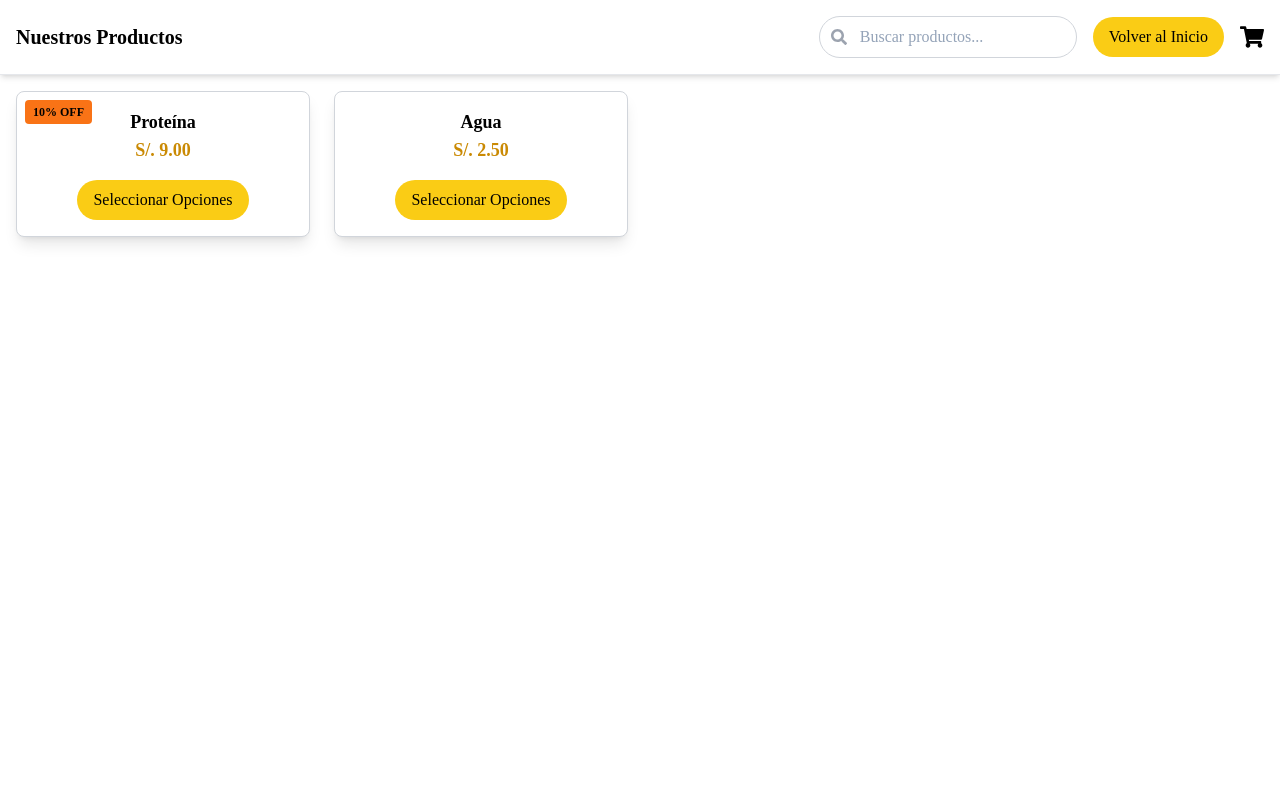
selección de productos › reinicia la cantidad al cancelar y elegir otro producto
Click the button "Seleccionar Opciones" below "9.00" at (163, 200), box [78,180,249,220]
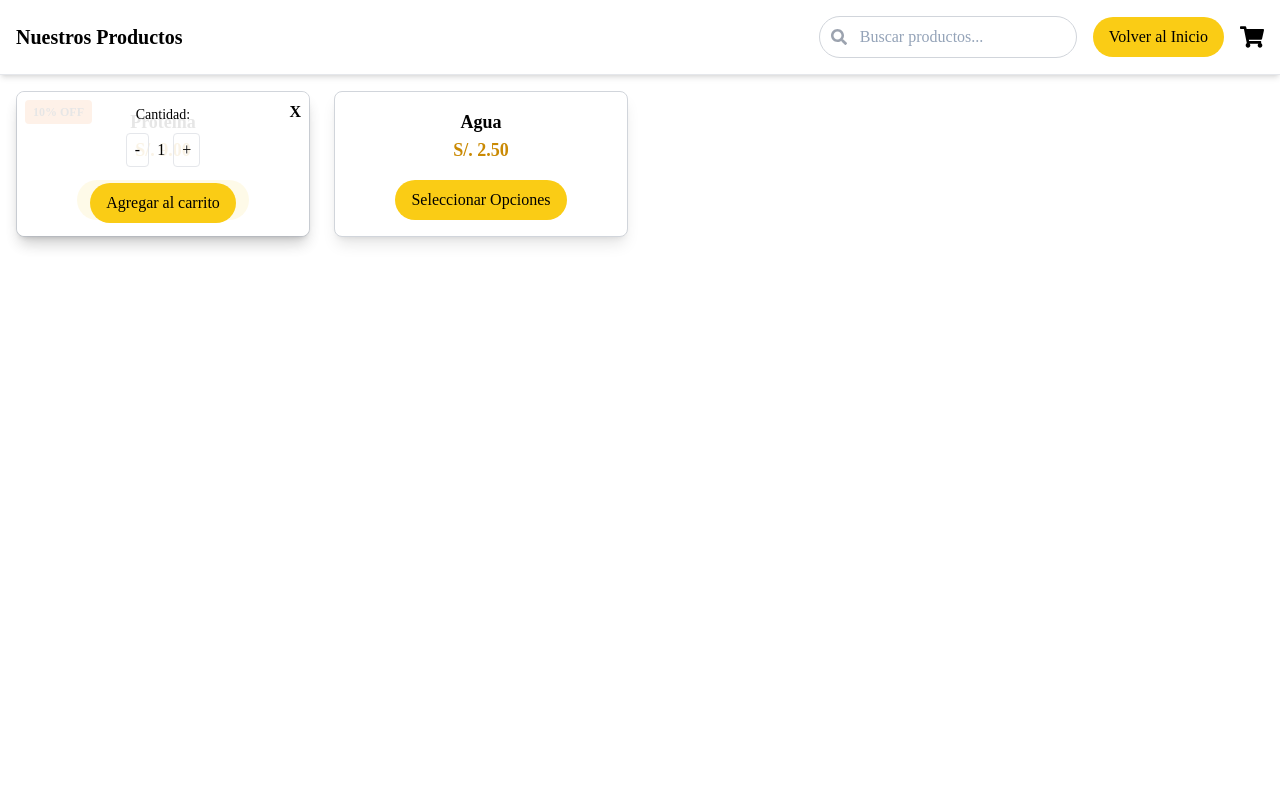
Click the button "+" at (187, 150), box [173,133,200,167]
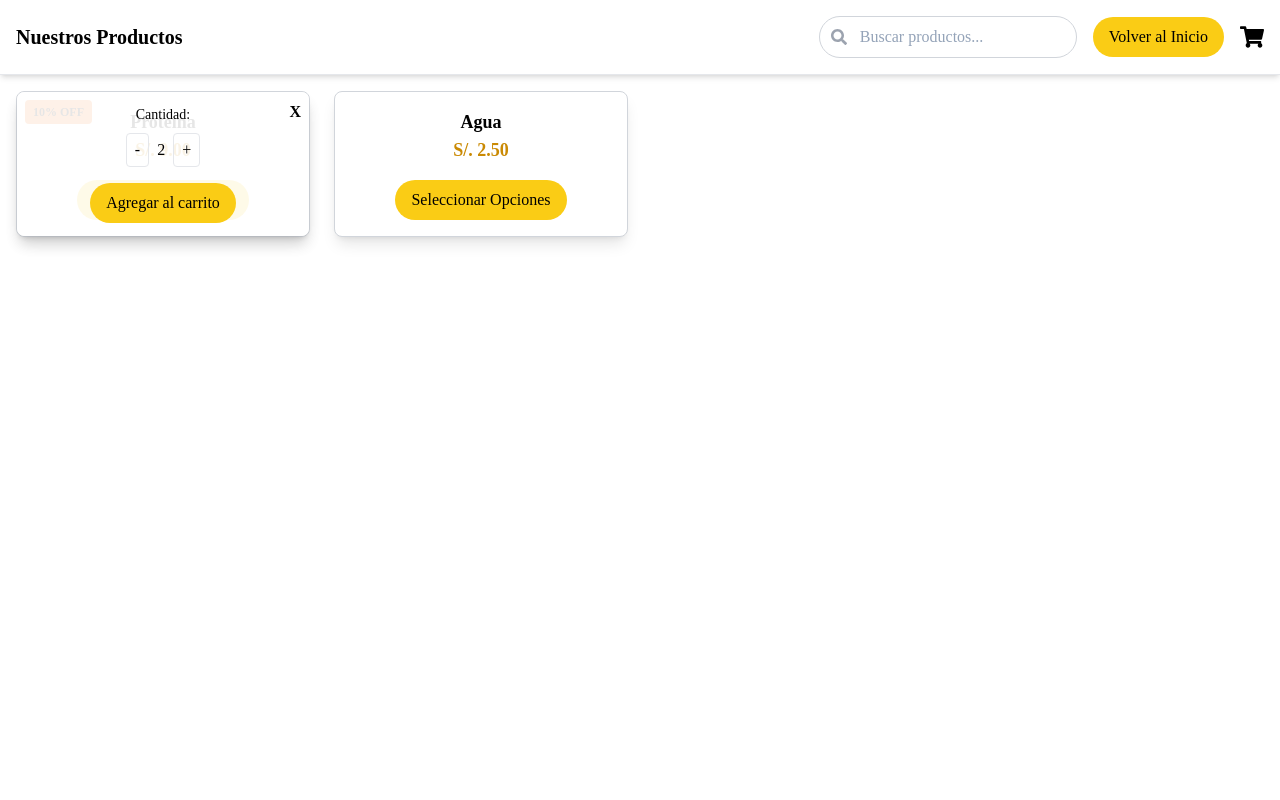
Click the button "X" at (295, 112), box [289,100,301,124]
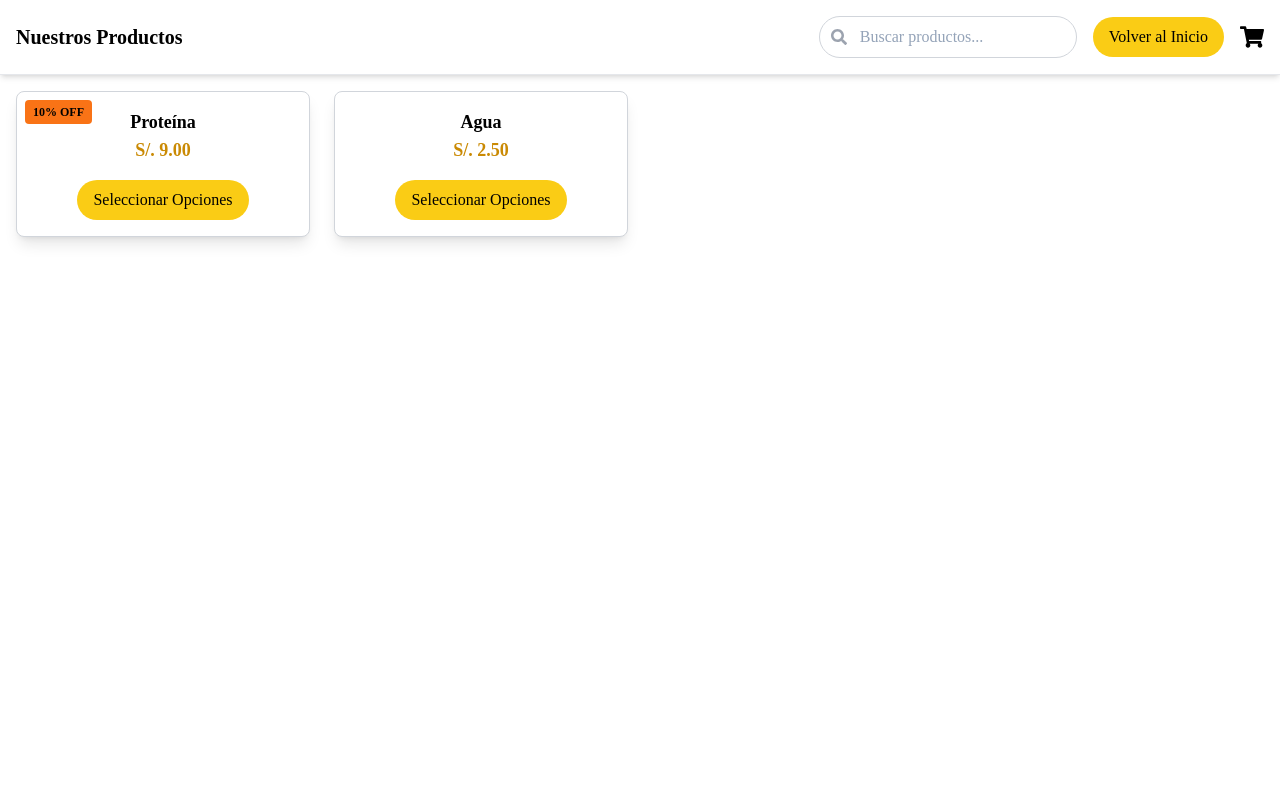
Click the button "Seleccionar Opciones" below "2.50" at (481, 200), box [396,180,567,220]
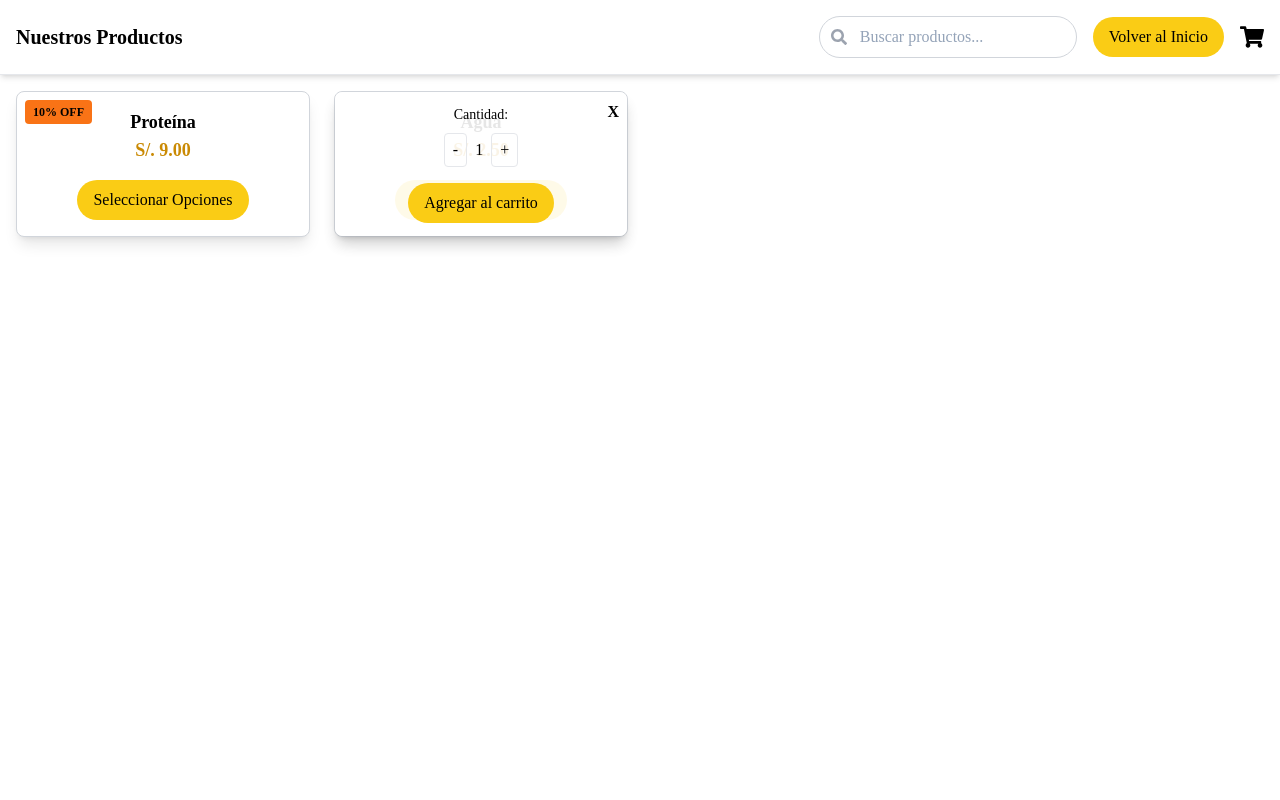
Click the button "Agregar al carrito" at (481, 203), box [408,183,554,223]
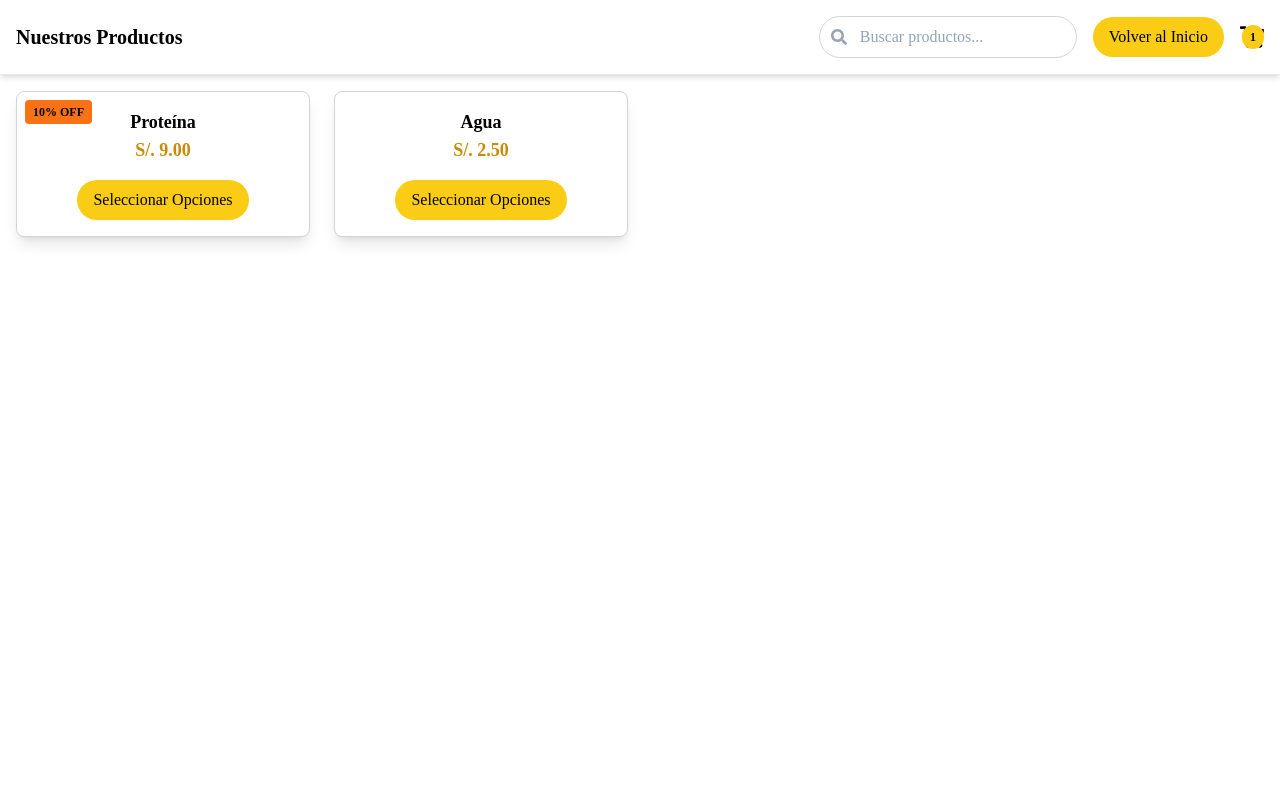
Click the button "1" at (1252, 37), box [1240,25,1264,49]
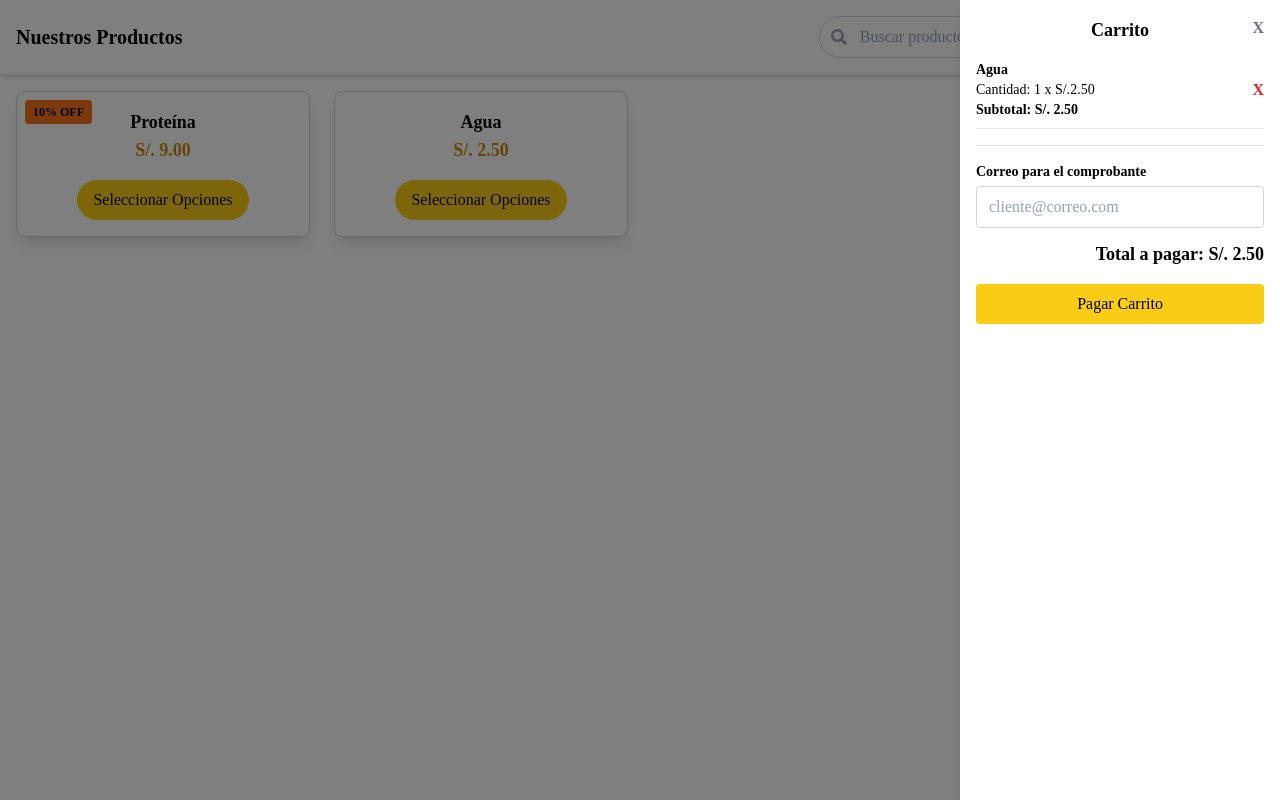
Result: the text "Cantidad: 1 x S/.2.50" is shown at [976,80,1095,100]
